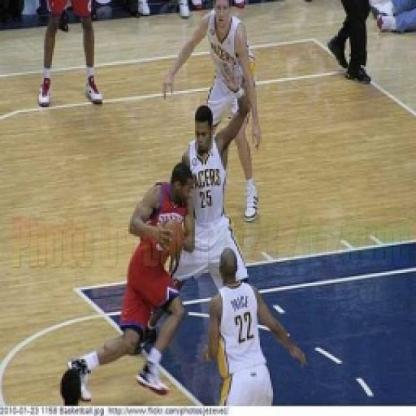basketball: (160, 219, 186, 254)
